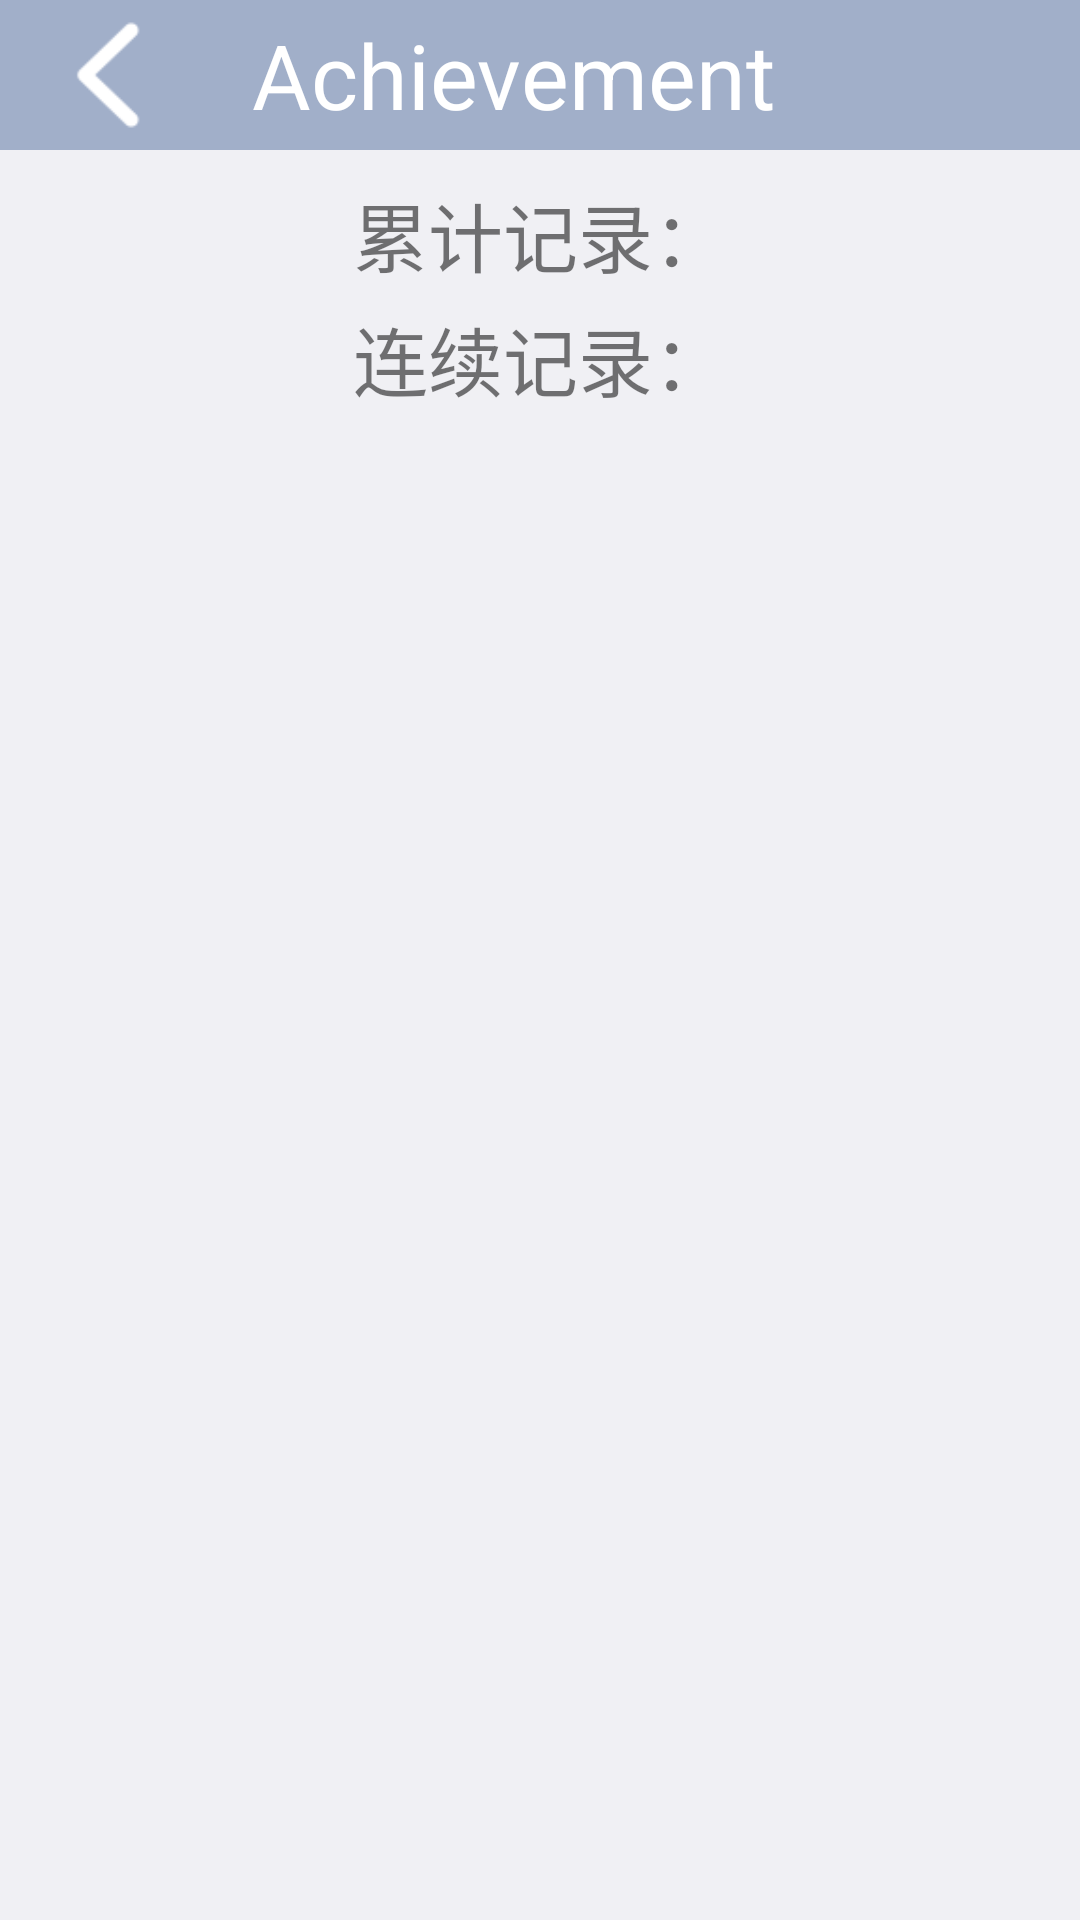

Where icons sit on this 1080w x 1920h app screen, as detection(x1, y1, x2, y2):
back: detection(77, 22, 139, 128)
